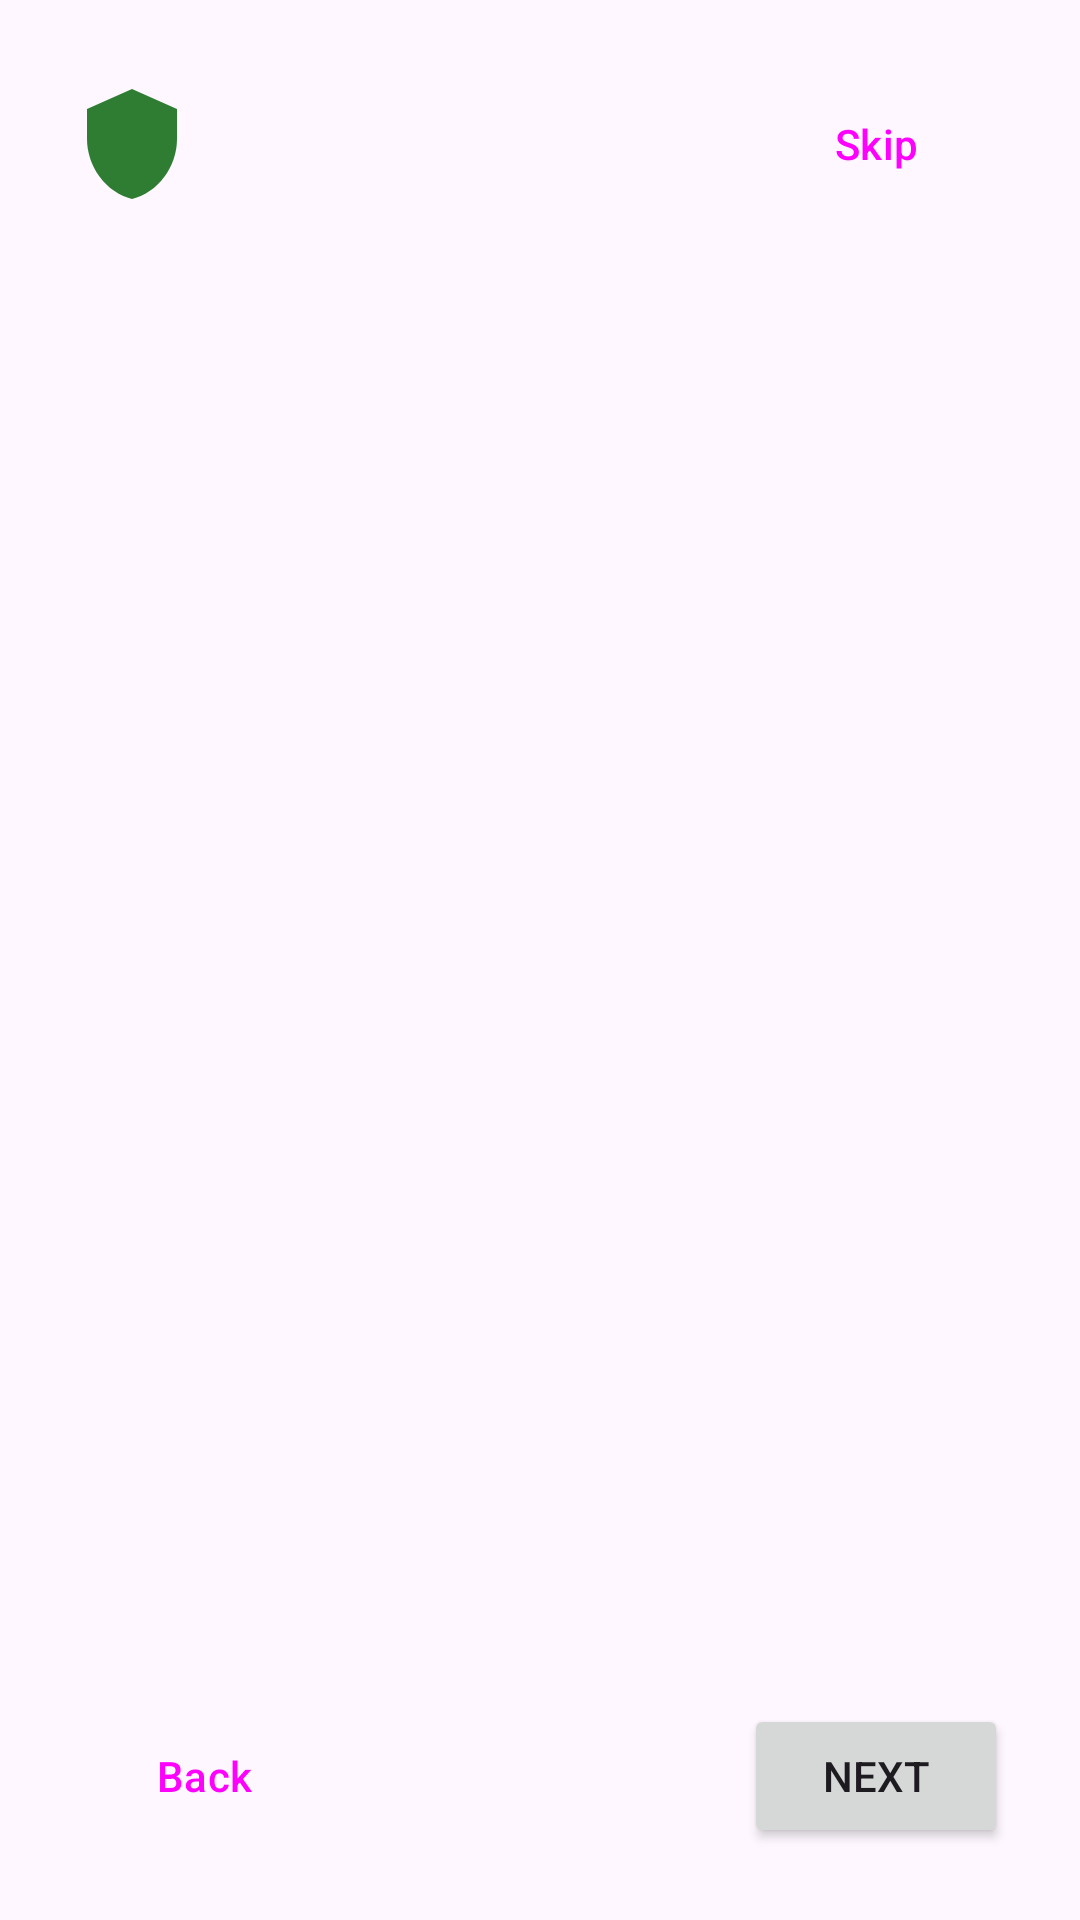

Icons on this 1080 x 1920 Android screen, each with the point to tap as (x=x, y=y):
shield: (x=132, y=144)
